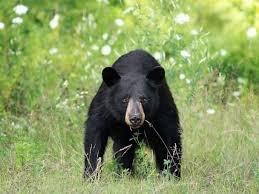bear: (82, 48, 182, 182)
